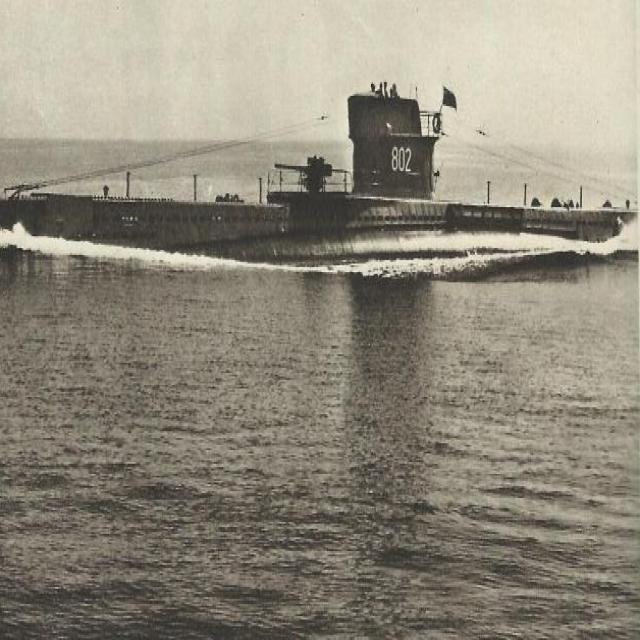submarine: (1, 69, 640, 268)
